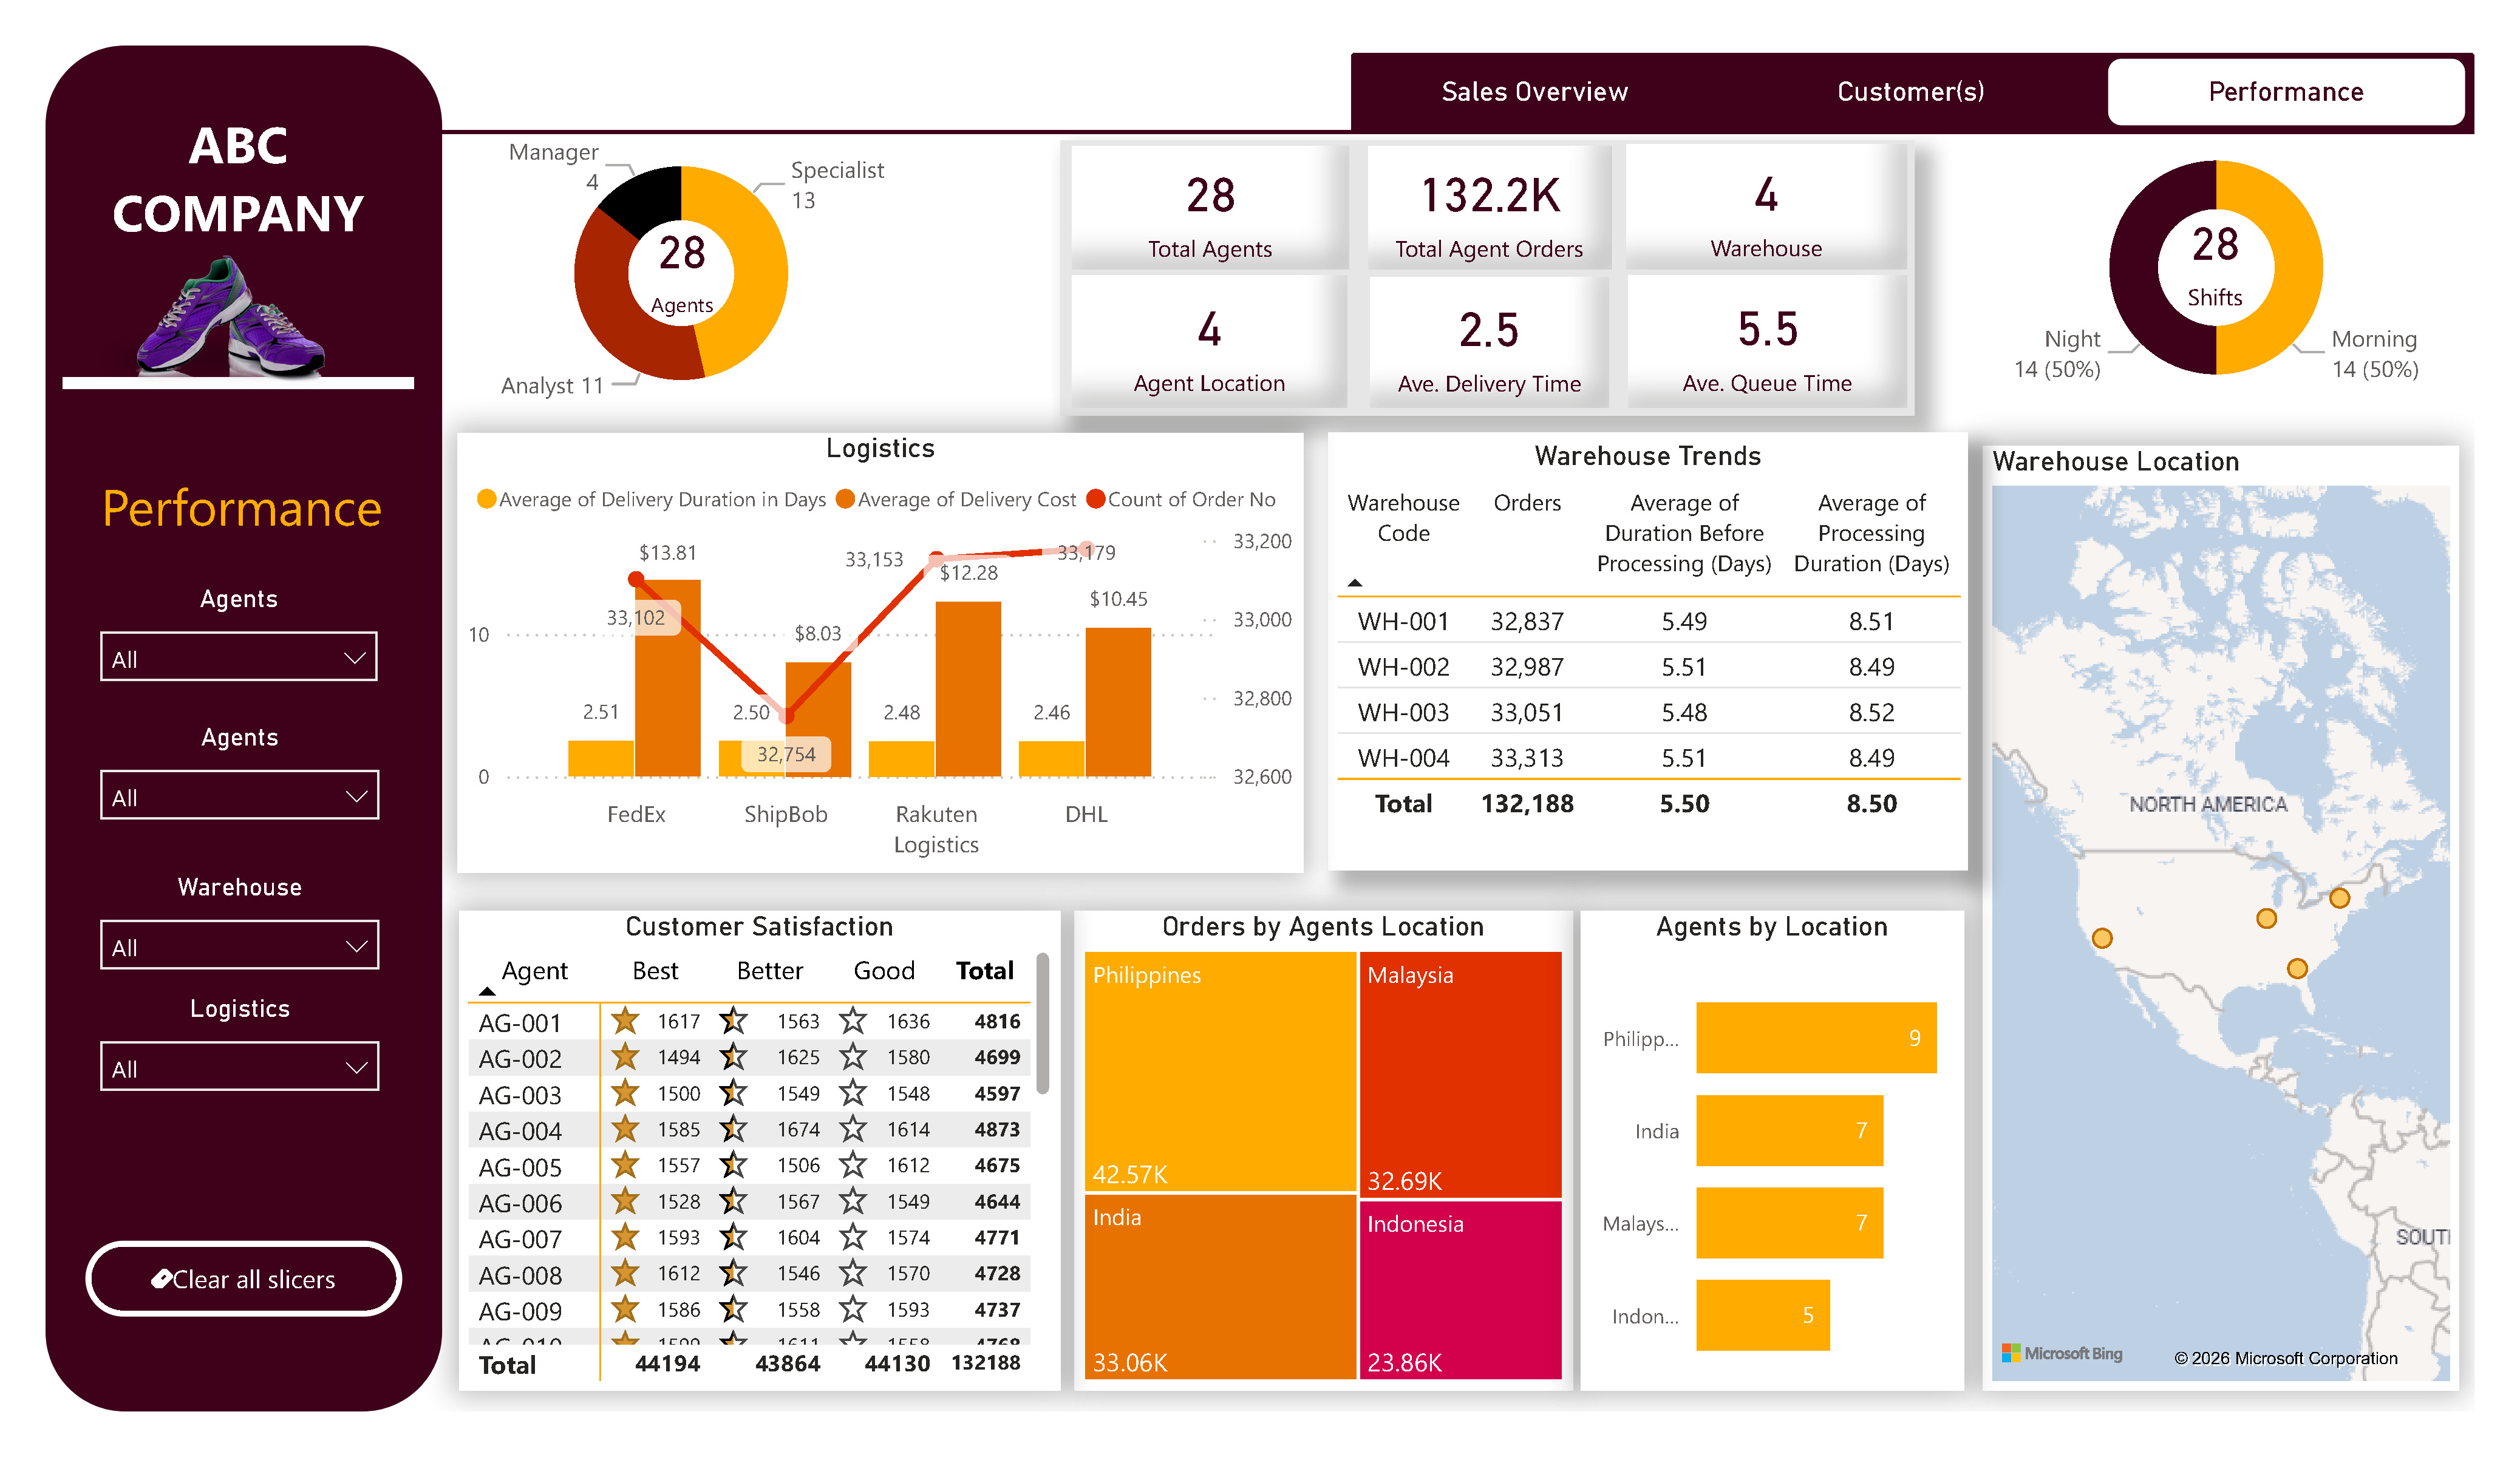

The page's visual inventory and layout, read from the dashboard file:
{"tool":"powerbi","page":{"name":"Performance","canvas":[1280,720],"ordinal":2},"visuals":[{"type":"shape","box":[0,0,208.6,720],"z":0},{"type":"slicer","title":"Warehouse","fields":{"Values":["tblWarehouse.Warehouse Code"]},"box":[18.9,436.1,166.8,65.3],"z":1000},{"type":"slicer","title":"Logistics","fields":{"Values":["tblLogistics.3PL Name"]},"box":[19.5,500.1,166.2,78.8],"z":2000},{"type":"map","fields":{"Category":["tblWarehouse.Warehouse Location"]},"box":[1021.1,210.5,251.3,498],"z":3000},{"type":"donutChart","title":"Agents by Title","fields":{"Category":["tblAgents.Title"],"Y":["CountNonNull(tblAgents.Title)"]},"box":[216.2,45,237.5,150],"z":4000},{"type":"textbox","box":[13.9,201.9,179.3,98.8],"z":5000},{"type":"card","fields":{"Values":["CountNonNull(tblAgents.Title)"]},"box":[307.1,87.1,57.1,57.1],"z":6000},{"type":"shape","box":[201.4,36.7,1078.6,16.9],"z":7000},{"type":"group","id":"g1","title":"Group 2","box":[1010,37.5,267.5,157.5],"z":8000},{"type":"shape","box":[535,50,450,145],"z":9000},{"type":"card","fields":{"Values":["CountNonNull(tblTransaction.Order No)"]},"box":[697.2,53.5,127.5,65],"z":10000},{"type":"card","fields":{"Values":["Avg(tblTransaction.Delivery Duration in Days)"]},"box":[697.5,121.6,126.7,69.8],"z":11000},{"type":"card","fields":{"Values":["Avg(tblTransaction.Delivery Duration in Time)"]},"box":[833.8,120.7,147.4,69.8],"z":12000},{"type":"card","fields":{"Values":["Count(tblAgents.Agent Code)"]},"box":[540.9,53.5,146.2,65],"z":13000},{"type":"shape","box":[9.4,162.6,185.4,29.8],"z":13000,"group":"g2"},{"type":"textbox","box":[19.3,27.5,165.6,90.1],"z":14000,"group":"g2"},{"type":"card","fields":{"Values":["Count(tblWarehouse.Warehouse Code)"]},"box":[833.4,52.2,147.5,66.2],"z":14000},{"type":"group","id":"g2","title":"Group 1","box":[9.4,27.5,185.4,182.8],"z":15000},{"type":"image","box":[19.3,85.1,133.1,125.2],"z":15000,"group":"g2"},{"type":"pageNavigator","box":[688.3,4.3,591.5,41.5],"z":16000},{"type":"donutChart","fields":{"Category":["tblAgents.Shift"],"Y":["CountNonNull(tblAgents.Shift)"]},"box":[1010,37.5,267.5,157.5],"z":16000,"group":"g1"},{"type":"card","fields":{"Values":["CountNonNull(tblAgents.Shift)"]},"box":[1120,79.4,47.5,63.5],"z":17000,"group":"g1"},{"type":"treemap","title":"Orders by Agents Location","fields":{"Group":["tblAgents.Location"],"Values":["CountNonNull(tblTransaction.Order No)"]},"box":[542.1,455.9,262.7,253],"z":17000},{"type":"tableEx","title":"Warehouse Trends","fields":{"Values":["tblWarehouse.Warehouse Code","tblTransaction.Order No","Avg(tblTransaction.Duration Before Processing (Days))","Avg(tblTransaction.Processing Duration (Days))"]},"box":[675.5,204.3,337.8,230.7],"z":18000},{"type":"slicer","title":"Agents","fields":{"Values":["tblAgents.Agent Code"]},"box":[19.5,357.2,166.8,77.8],"z":19000},{"type":"clusteredBarChart","title":"Agents by Location","fields":{"Category":["tblAgents.Location"],"Y":["CountNonNull(tblAgents.Agent Code)"]},"box":[809,455.9,201.5,253],"z":20000},{"type":"slicer","title":"Agents","fields":{"Values":["tblAgents.Title"]},"box":[19.5,283.6,165.4,79.2],"z":21000},{"type":"actionButton","box":[20.8,630,167.1,40],"z":22000},{"type":"pivotTable","title":"Customer Satisfaction","fields":{"Rows":["tblTransaction.Agent Code"],"Columns":["tblTransaction.Customer Satisfaction Rate"],"Values":["CountNonNull(tblTransaction.Customer Satisfaction)"]},"box":[218.2,455.9,316.9,253],"z":23000},{"type":"lineClusteredColumnComboChart","title":"Logistics","fields":{"Category":["tblLogistics.3PL Name"],"Y":["Avg(tblTransaction.Delivery Duration in Days)","Avg(tblLogistics.Delivery Cost)"],"Y2":["Count(tblTransaction.Order No)"]},"box":[216.8,204.3,446.2,232.1],"z":24000},{"type":"card","fields":{"Values":["Count(tblAgents.Location)"]},"box":[540.7,120.7,145.7,69.8],"z":25000}]}

Visuals, with their boxes on the page's 1280x720 design canvas (x1, y1, x2, y2). These are canvas units, not pixel positions in the 2520x1457 screenshot, which may show the page scaled, cropped or inside an application window:
shape: (0,0,209,720)
"Warehouse" slicer: (19,436,186,501)
"Logistics" slicer: (20,500,186,579)
map - tblWarehouse.Warehouse Location: (1021,210,1272,708)
"Agents by Title" donutChart: (216,45,454,195)
textbox: (14,202,193,301)
card - CountNonNull(tblAgents.Title): (307,87,364,144)
shape: (201,37,1280,54)
"Group 2" group: (1010,38,1278,195)
shape: (535,50,985,195)
card - CountNonNull(tblTransaction.Order No): (697,54,825,118)
card - Avg(tblTransaction.Delivery Duration in Days): (698,122,824,191)
card - Avg(tblTransaction.Delivery Duration in Time): (834,121,981,190)
card - Count(tblAgents.Agent Code): (541,54,687,118)
shape: (9,163,195,192)
textbox: (19,28,185,118)
card - Count(tblWarehouse.Warehouse Code): (833,52,981,118)
"Group 1" group: (9,28,195,210)
image: (19,85,152,210)
pageNavigator: (688,4,1280,46)
donutChart - tblAgents.Shift x CountNonNull(tblAgents.Shift): (1010,38,1278,195)
card - CountNonNull(tblAgents.Shift): (1120,79,1168,143)
"Orders by Agents Location" treemap: (542,456,805,709)
"Warehouse Trends" tableEx: (676,204,1013,435)
"Agents" slicer: (20,357,186,435)
"Agents by Location" clusteredBarChart: (809,456,1010,709)
"Agents" slicer: (20,284,185,363)
actionButton: (21,630,188,670)
"Customer Satisfaction" pivotTable: (218,456,535,709)
"Logistics" lineClusteredColumnComboChart: (217,204,663,436)
card - Count(tblAgents.Location): (541,121,686,190)
